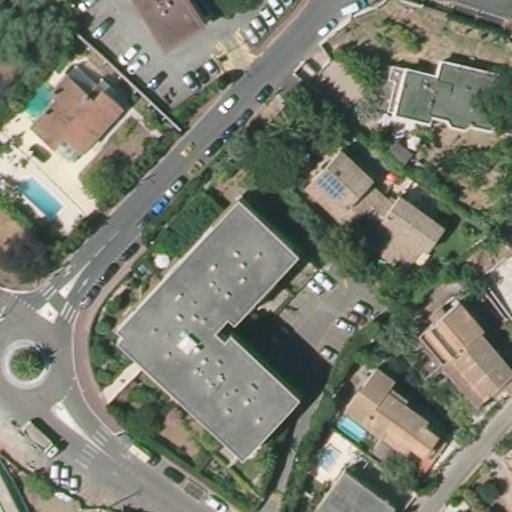pool: (21, 177, 65, 220), (24, 82, 59, 118), (310, 444, 343, 475), (336, 416, 369, 445)
